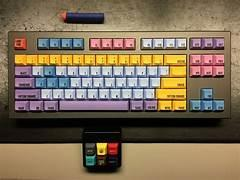keyboard: (6, 29, 232, 119)
